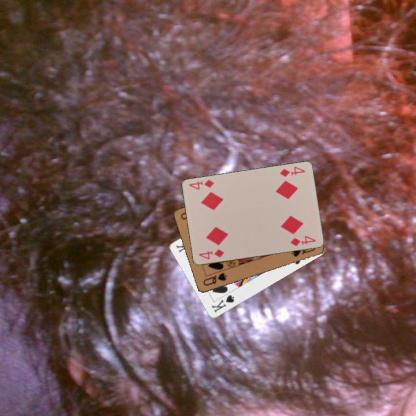4d: (277, 164, 306, 179), (196, 247, 225, 261)
Ks: (208, 292, 236, 314)
Qs: (200, 270, 228, 288)
